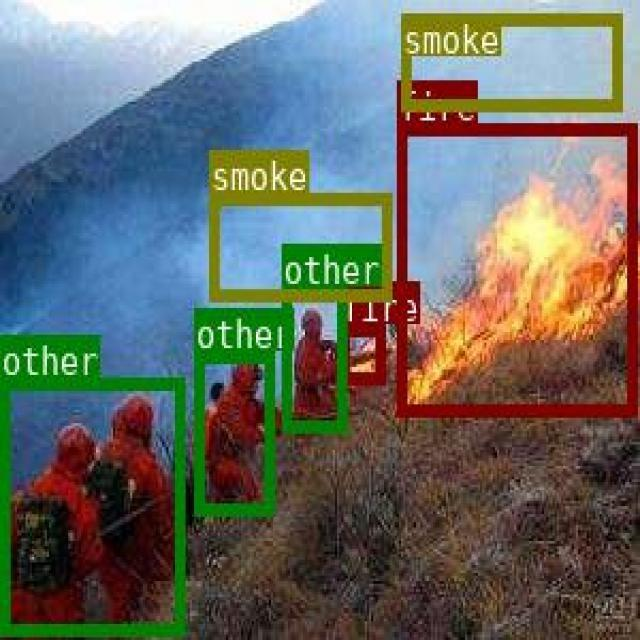fire: (395, 121, 634, 414), (339, 324, 384, 382)
smoke: (401, 12, 619, 109), (207, 191, 389, 299)
